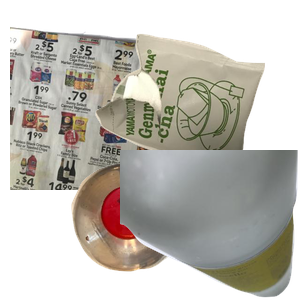glass: (120, 150, 300, 300)
paper: (10, 22, 225, 202)
plastic: (69, 161, 245, 300)
trash: (93, 31, 300, 205)
